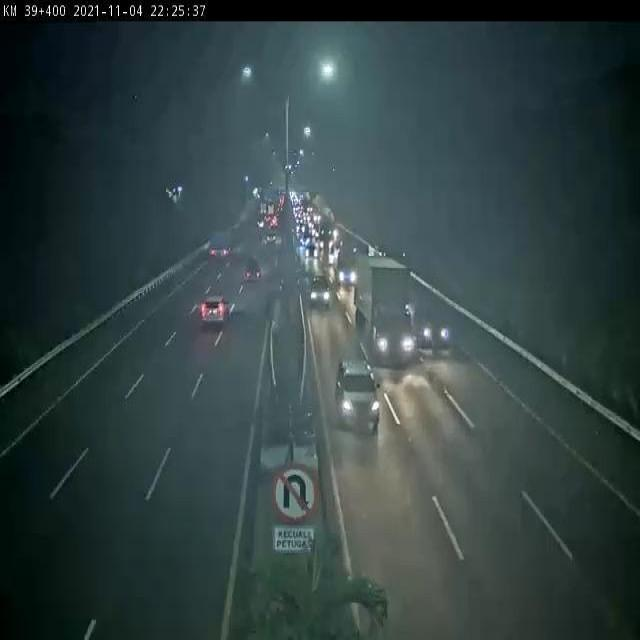car: (334, 358, 381, 431), (411, 287, 455, 353), (335, 246, 362, 290), (305, 269, 334, 307), (201, 296, 228, 328), (242, 256, 265, 285)
truck-s-: (205, 228, 232, 264)
truck-xl-: (354, 260, 415, 367)
